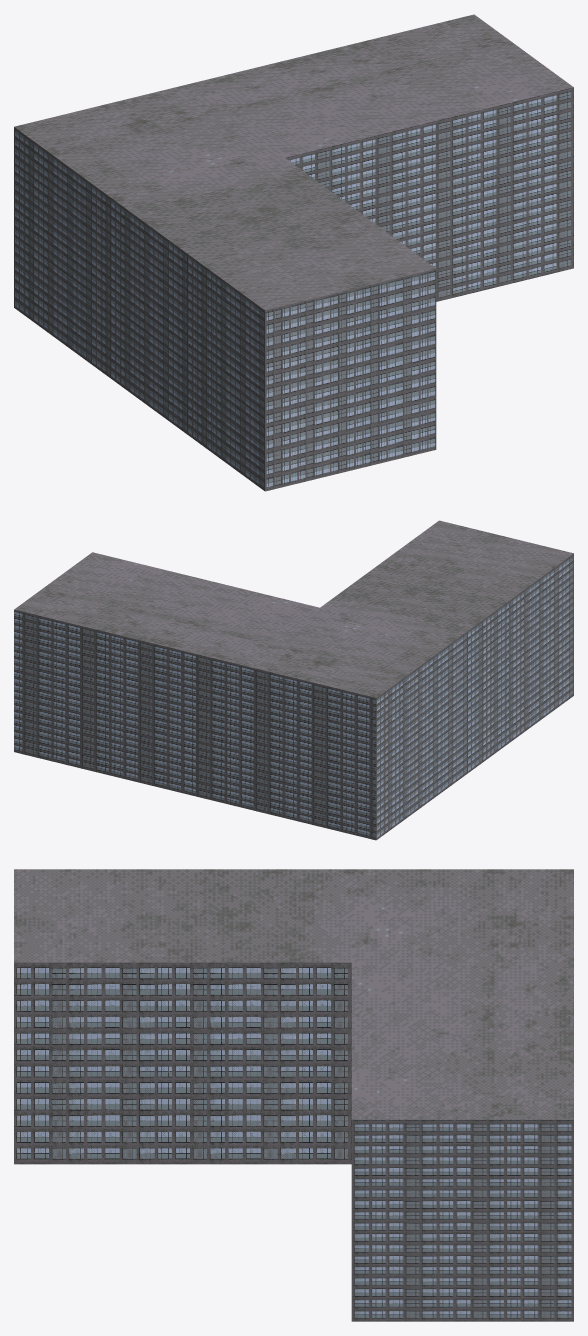
3 views of the same model, one above another, from view 1: azimuth 30°, elevation 25°; view 2: azimuth 150°, elevation 25°; view 3: azimuth 270°, elevation 25° (orthographic). The views are drawn at different scales.
Parts seen in each view (by area): view 1: pCube28; view 2: pCube28; view 3: pCube28.
Part boxes in pixels (box(x1,y1,x2,y2)): pCube28: box(14, 14, 573, 491); pCube28: box(14, 520, 573, 840); pCube28: box(14, 869, 573, 1321).
Size of the model in its own units: 173 by 64.96 by 163.
2 materials, 2 textured.
